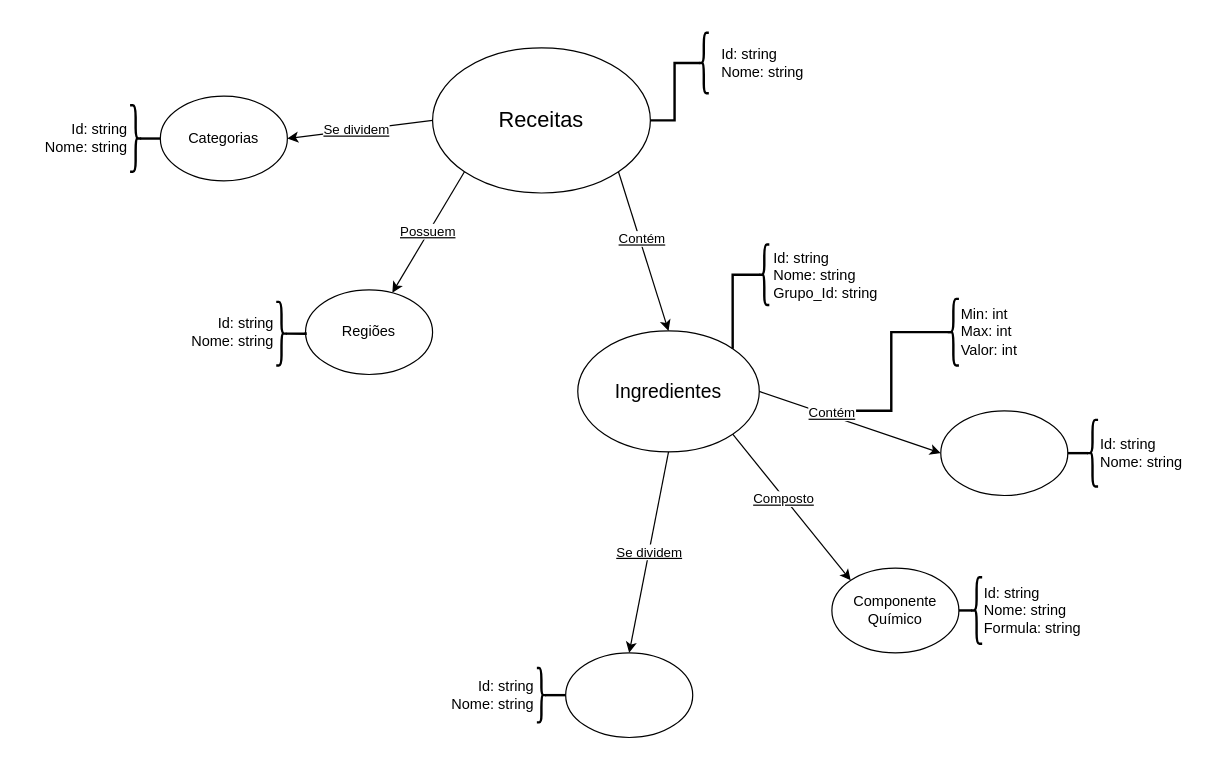
Image size: 1227x759. Some labels were removed from this diagram. Here are the shapes that lost their labels. From the top down, the centre of each, then its label:
At (x=1004, y=452): "Nutrientes".
At (x=628, y=694): "Grupo".
